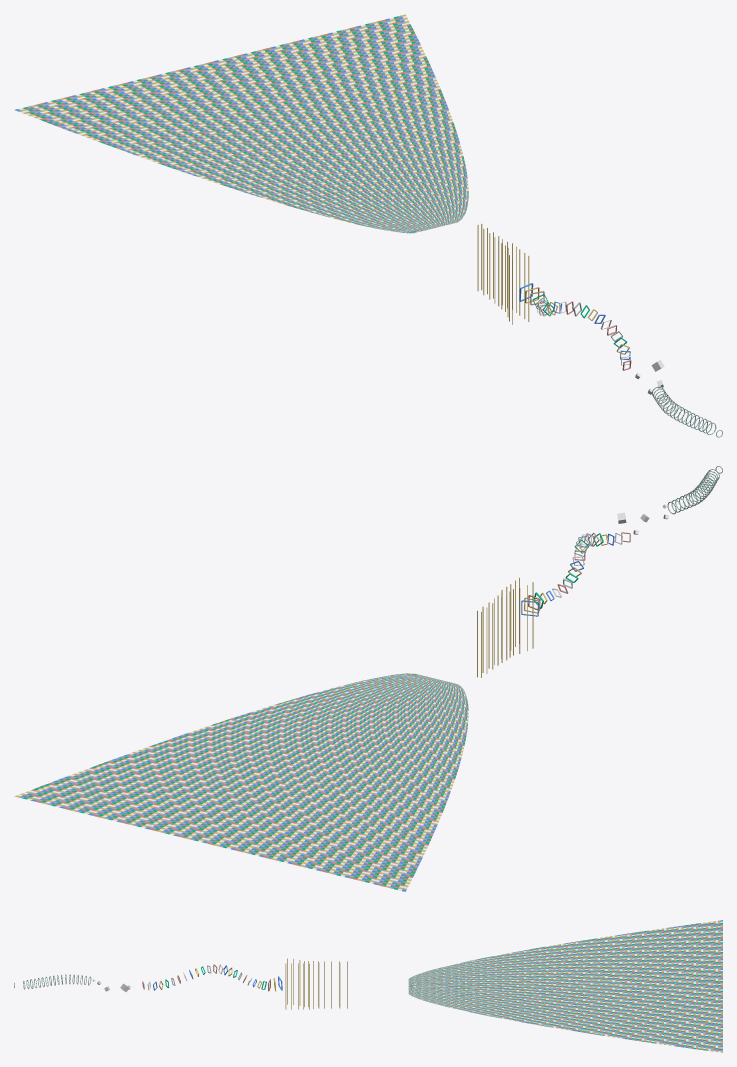
The model's file is about-v2-track-reference.glb.
3 renders of one model, top to bottom at view 1: azimuth 30°, elevation 25°; view 2: azimuth 150°, elevation 25°; view 3: azimuth 270°, elevation 25°, orthographic. The views are drawn at different scales.
Parts seen in each view (by area): view 1: ABS_OCEAN_SURFACE; view 2: ABS_OCEAN_SURFACE; view 3: ABS_OCEAN_SURFACE.
Boxes of the visible parts, x1=… form: ABS_OCEAN_SURFACE: x1=15, y1=14, x2=468, y2=233; ABS_OCEAN_SURFACE: x1=14, y1=673, x2=468, y2=891; ABS_OCEAN_SURFACE: x1=408, y1=920, x2=722, y2=1052.
Size of the model in its own units: 320 by 51.71 by 721.
